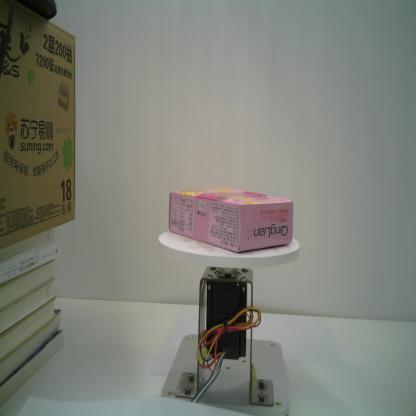Dessert: (169, 187, 294, 253)
